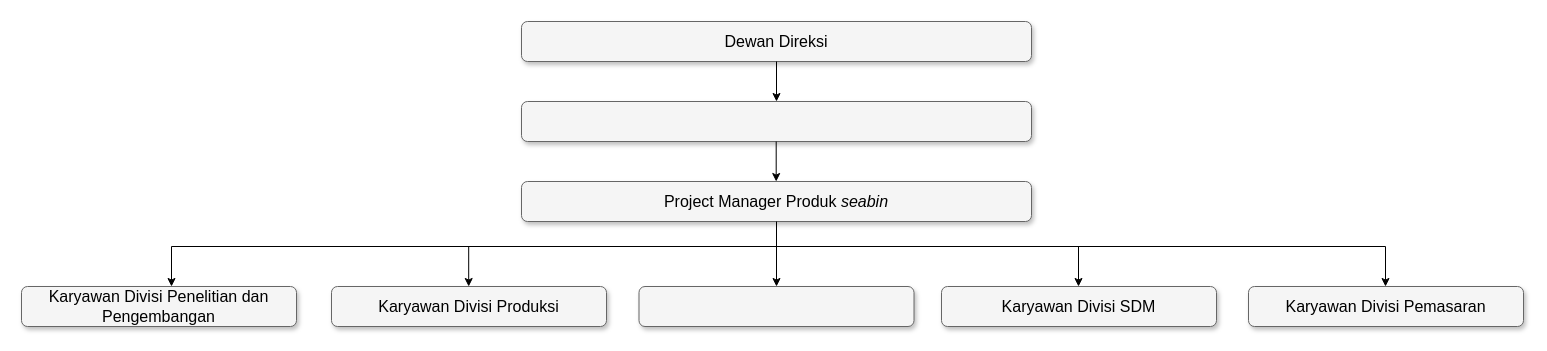
This 1547x351 diagram has some shape labels left out. Each missing label, with the centre of its shape:
"Karyawan Divisi Keuangan" belongs at point 777,308.
"PMO" belongs at point 777,122.
